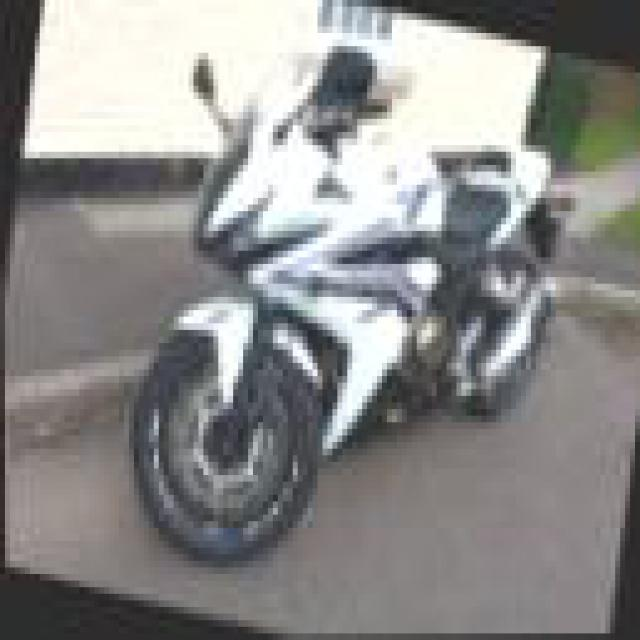CBR500R: (109, 26, 586, 634)
